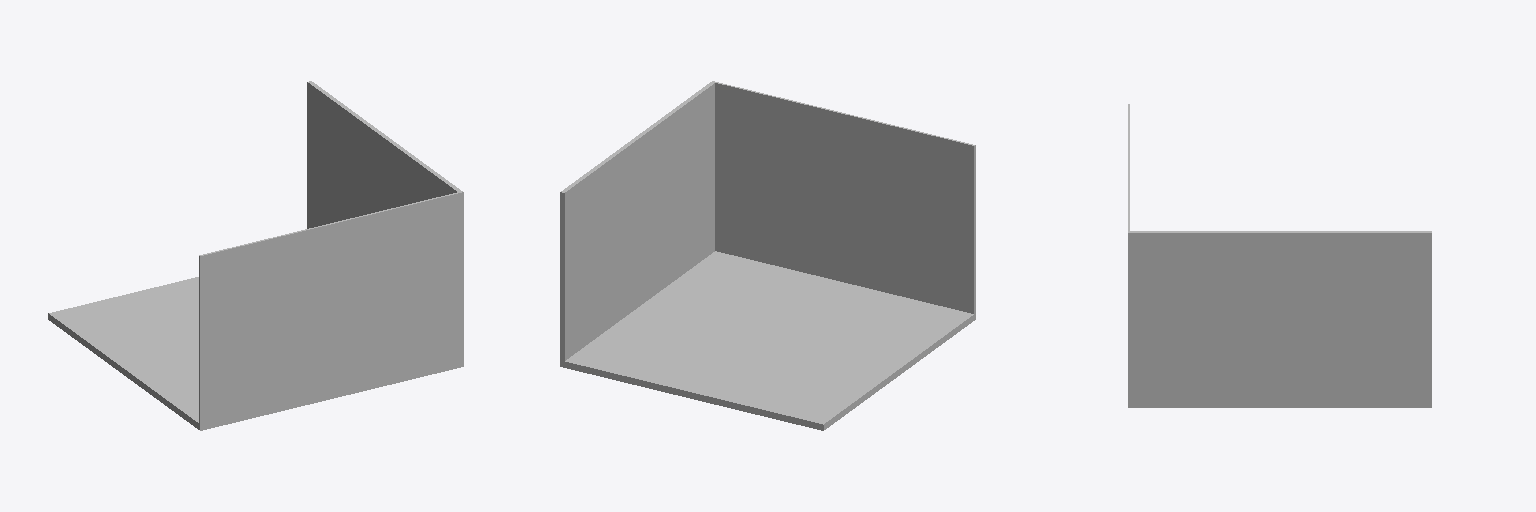
The model's file is 4x4 second-13.obj.
The picture shows the model from 3 angles: view 1: azimuth 30°, elevation 25°; view 2: azimuth 150°, elevation 25°; view 3: azimuth 270°, elevation 25°; orthographic projection.
Parts seen in each view (by area): view 1: 4x4 second-13; view 2: 4x4 second-13; view 3: 4x4 second-13.
Boxes of the visible parts, x1,y1,x2,y2 form: 4x4 second-13: [48, 81, 463, 430]; 4x4 second-13: [560, 81, 975, 430]; 4x4 second-13: [1128, 104, 1431, 407].
Bounding box in the file's own units: 126 × 80 × 126.